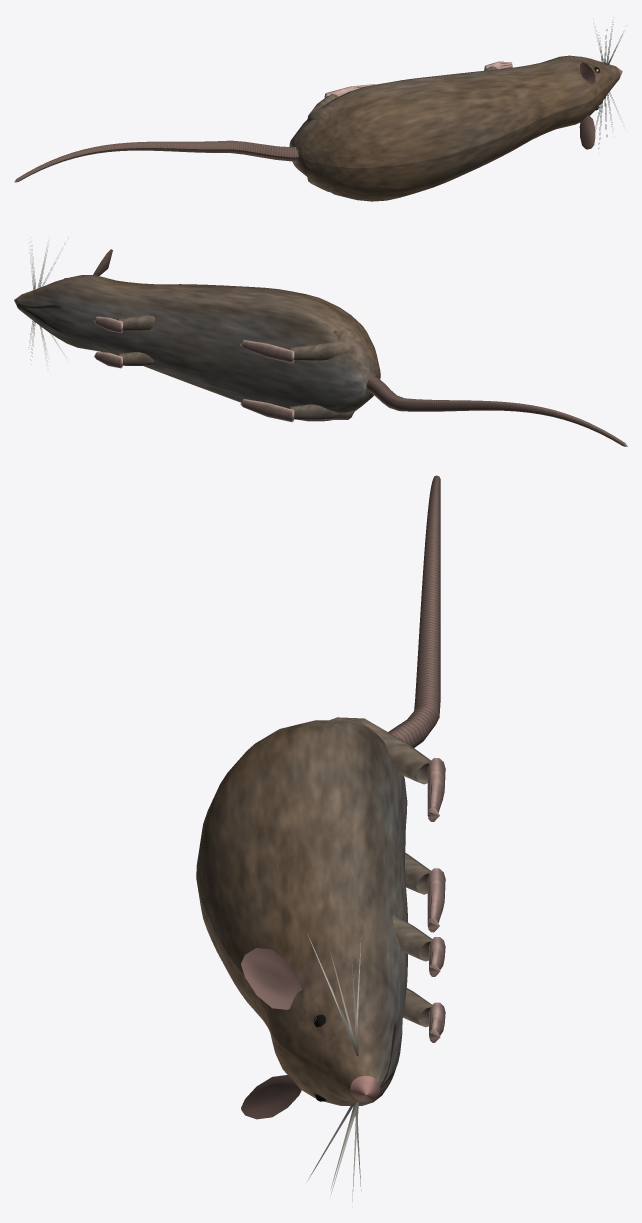
Rendered from rat_rat.obj.
3 renders of one model, top to bottom at view 1: azimuth 30°, elevation 25°; view 2: azimuth 150°, elevation 25°; view 3: azimuth 270°, elevation 25°, orthographic. The views are drawn at different scales.
Visible parts, largest first — view 1: rat_rat; view 2: rat_rat; view 3: rat_rat.
Part boxes in pixels (x1=…): rat_rat: x1=14, y1=22, x2=627, y2=201; rat_rat: x1=14, y1=237, x2=627, y2=446; rat_rat: x1=196, y1=475, x2=445, y2=1206.
Bounding box in the file's own units: 0.4089 × 0.0851 × 0.0747.
1 material, 1 textured.
